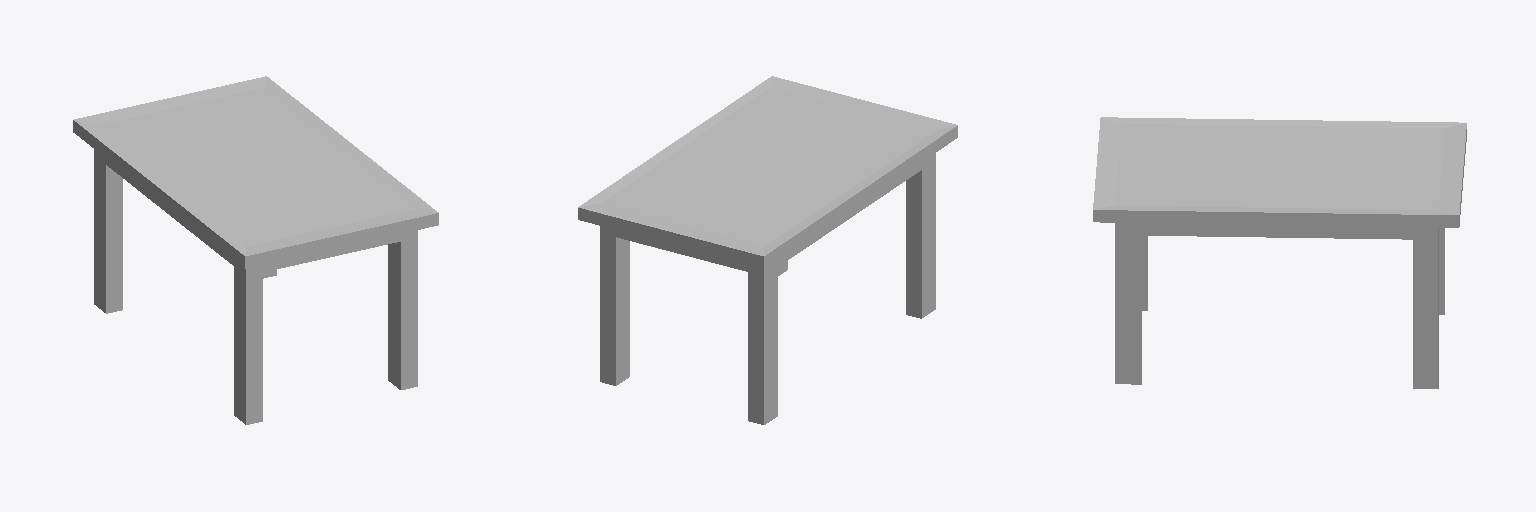
File: table.obj
3 views of the same model, side by side, from view 1: azimuth 30°, elevation 25°; view 2: azimuth 150°, elevation 25°; view 3: azimuth 270°, elevation 25° (orthographic).
Parts seen in each view (by area): view 1: Cube.029_Cube.054; view 2: Cube.029_Cube.054; view 3: Cube.029_Cube.054.
Boxes of the visible parts, x1,y1,x2,y2 form: Cube.029_Cube.054: [73, 76, 438, 424]; Cube.029_Cube.054: [578, 76, 957, 424]; Cube.029_Cube.054: [1093, 117, 1466, 388].
Bounding box in the file's own units: 1.16 × 0.9904 × 1.87.